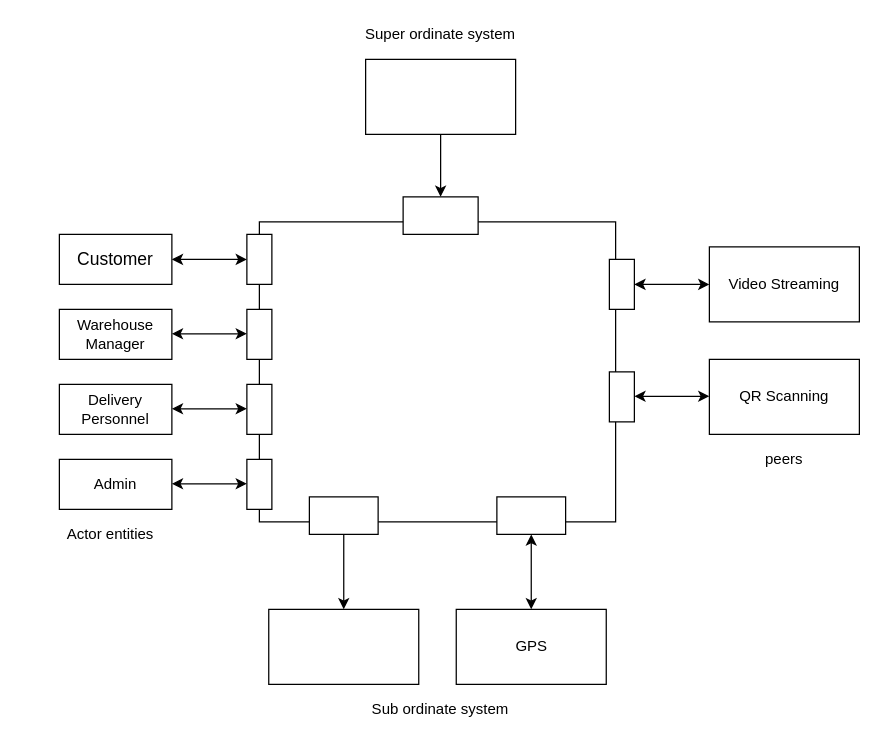
This 894x743 diagram has some shape labels left out. The shapes that lost their labels are listed below. From the top down, each one's box as (x1, y1, x2, y2) in pixels, then its label:
(364, 58, 516, 134): E-commerce application
(258, 221, 616, 522): E-commerce Security System
(268, 608, 419, 684): Mobile Banking System
